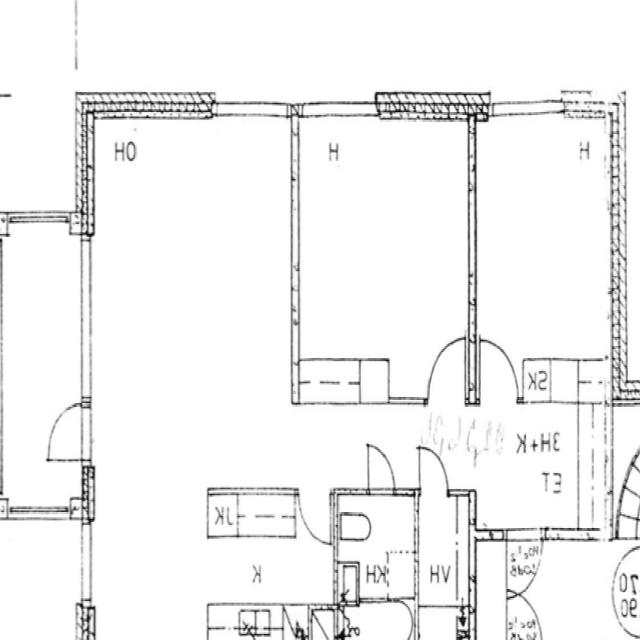door: (40, 402, 94, 460), (480, 337, 518, 404), (507, 528, 543, 597), (429, 341, 465, 404), (298, 488, 332, 547), (420, 442, 448, 493), (368, 443, 396, 494)
